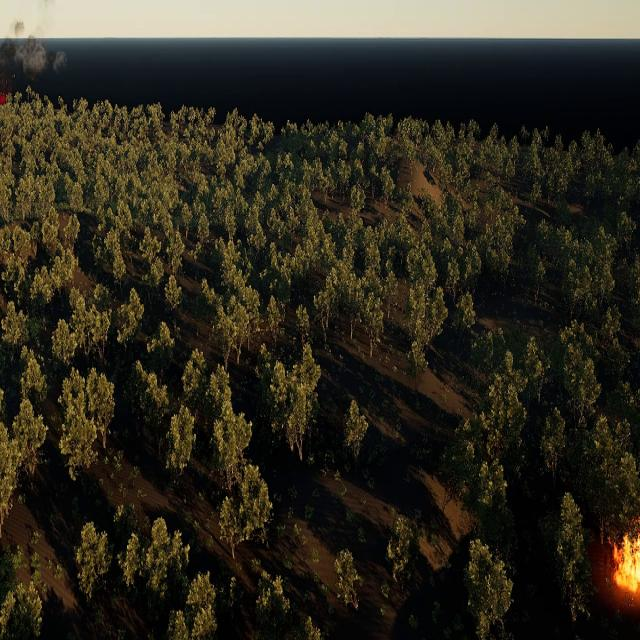fire: (613, 534, 640, 596), (0, 92, 7, 106)
smoke: (0, 0, 69, 90)
